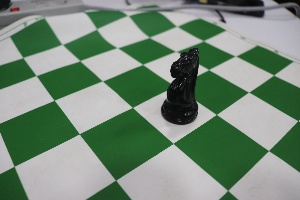black_horse: (155, 35, 207, 131)
